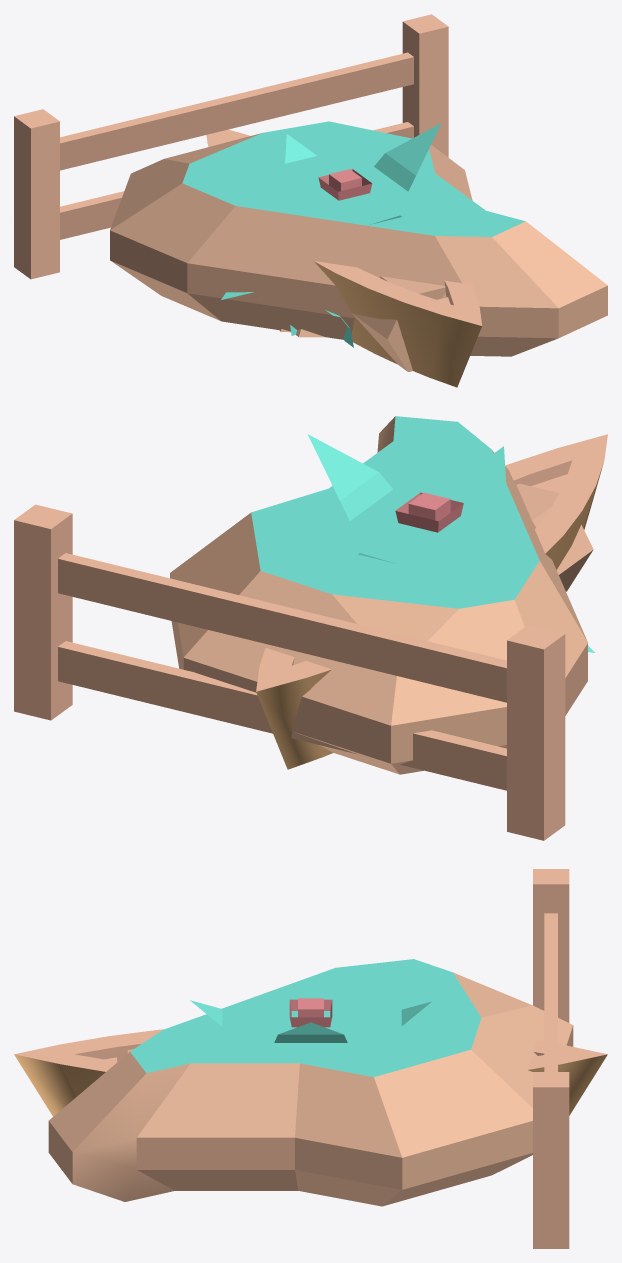
File: nature.glb
3 views of the same model, one above another, from view 1: azimuth 30°, elevation 25°; view 2: azimuth 150°, elevation 25°; view 3: azimuth 270°, elevation 25° (orthographic). The views are drawn at different scales.
Visible parts, largest first — view 1: rock_largeA, fence_simple, canoe, plant_bushDetailed, log, flower_redA; view 2: rock_largeA, fence_simple, canoe, plant_bushDetailed, log, flower_redA; view 3: rock_largeA, fence_simple, canoe, plant_bushDetailed, flower_redA.
Boxes of the visible parts, box(x1,y1,x2,y2) form: rock_largeA: box(110, 121, 607, 356); fence_simple: box(14, 14, 448, 279); canoe: box(206, 129, 481, 387); plant_bushDetailed: box(221, 123, 441, 299); log: box(351, 276, 445, 371); flower_redA: box(318, 169, 372, 200); rock_largeA: box(170, 416, 587, 774); fence_simple: box(14, 504, 565, 840); canoe: box(256, 434, 607, 769); plant_bushDetailed: box(307, 434, 594, 652); log: box(516, 483, 593, 591); flower_redA: box(395, 492, 463, 532); rock_largeA: box(48, 959, 573, 1206); fence_simple: box(533, 869, 569, 1248); canoe: box(14, 1029, 607, 1116); plant_bushDetailed: box(190, 1000, 431, 1042); flower_redA: box(289, 998, 332, 1027).
Size of the model in its own units: 1 by 0.3604 by 1.15.
